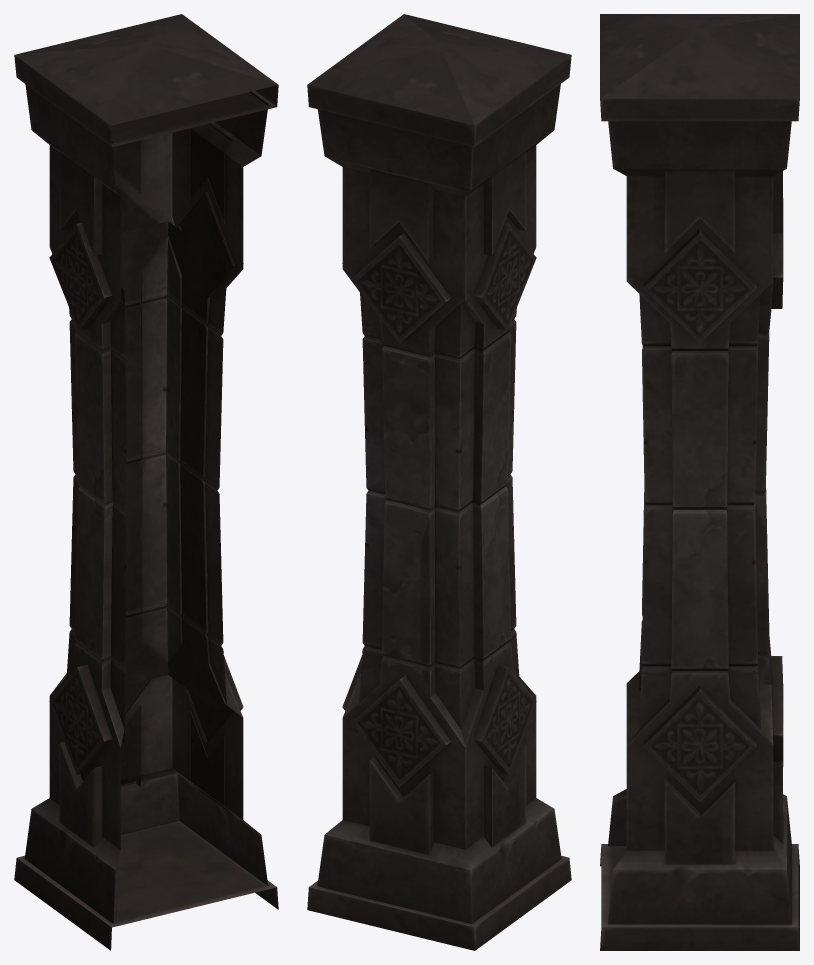
The model's file is mesh_tower_pillar.FBX.
3 renders of one model, left to right at view 1: azimuth 30°, elevation 25°; view 2: azimuth 150°, elevation 25°; view 3: azimuth 270°, elevation 25°, orthographic. The views are drawn at different scales.
Parts seen in each view (by area): view 1: mesh_tower_pillar; view 2: mesh_tower_pillar; view 3: mesh_tower_pillar.
Part boxes in pixels (x1,y1,x2,y2): mesh_tower_pillar: [14, 14, 278, 950]; mesh_tower_pillar: [307, 14, 571, 950]; mesh_tower_pillar: [600, 14, 799, 950].
Size of the model in its own units: 3.47 by 16.82 by 3.47.
